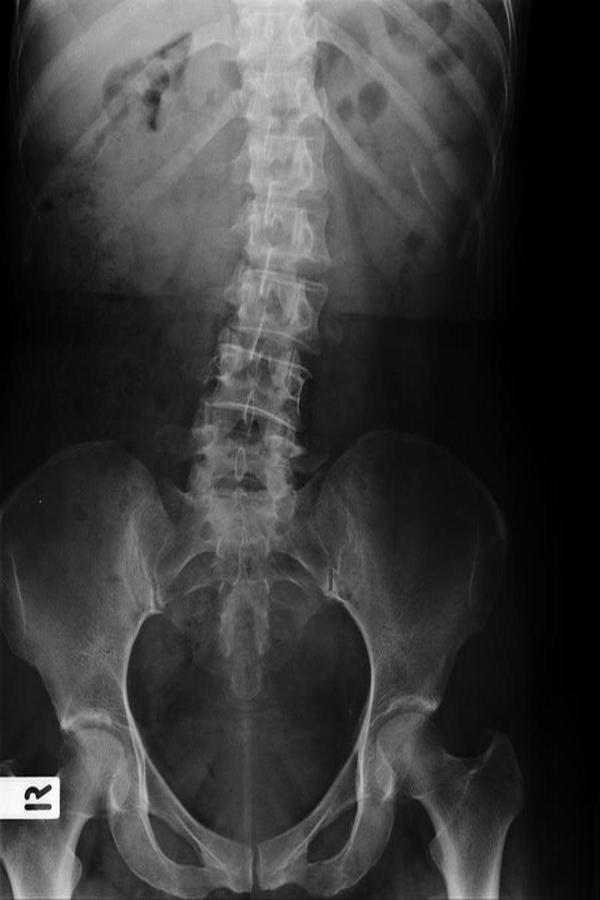lumbar scoliosis: (192, 8, 336, 621)
